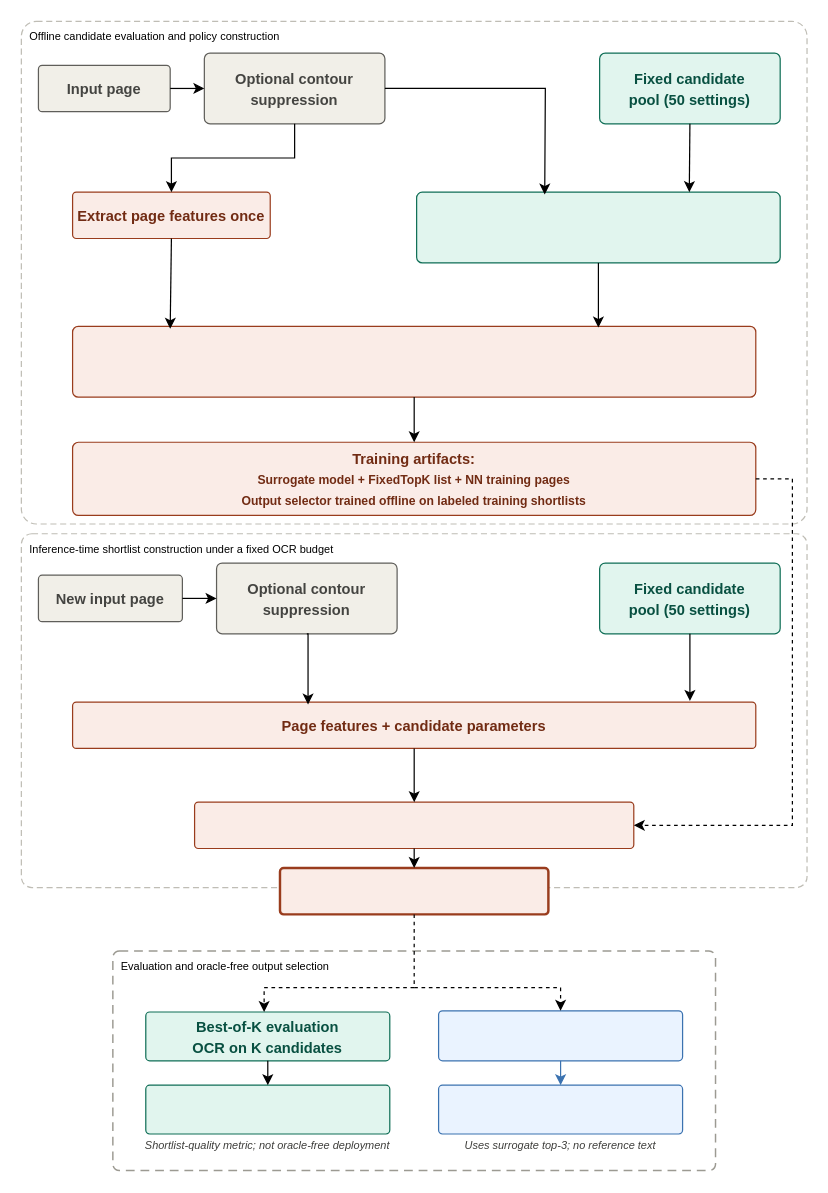
This 828x1193 diagram has some shape labels left out. Here are the shapes that lost their labels. From the top down, the centre of each, then its label:
At (597,227): "Run OCR pipeline on fixed pool → CER labels (×50)".
At (413,361): "Training tuples: page features + candidate parameters + CER labels".
At (413,825): "Apply shortlist policy Surrogate, FixedTopK, NN-K, Random".
At (413,890): "Top-K shortlist".
At (560,1035): "Oracle-free selector on surrogate top-3".
At (267,1109): "Select lowest-CER output using reference text".
At (560,1109): "Choose one OCR output without reference at inference".
